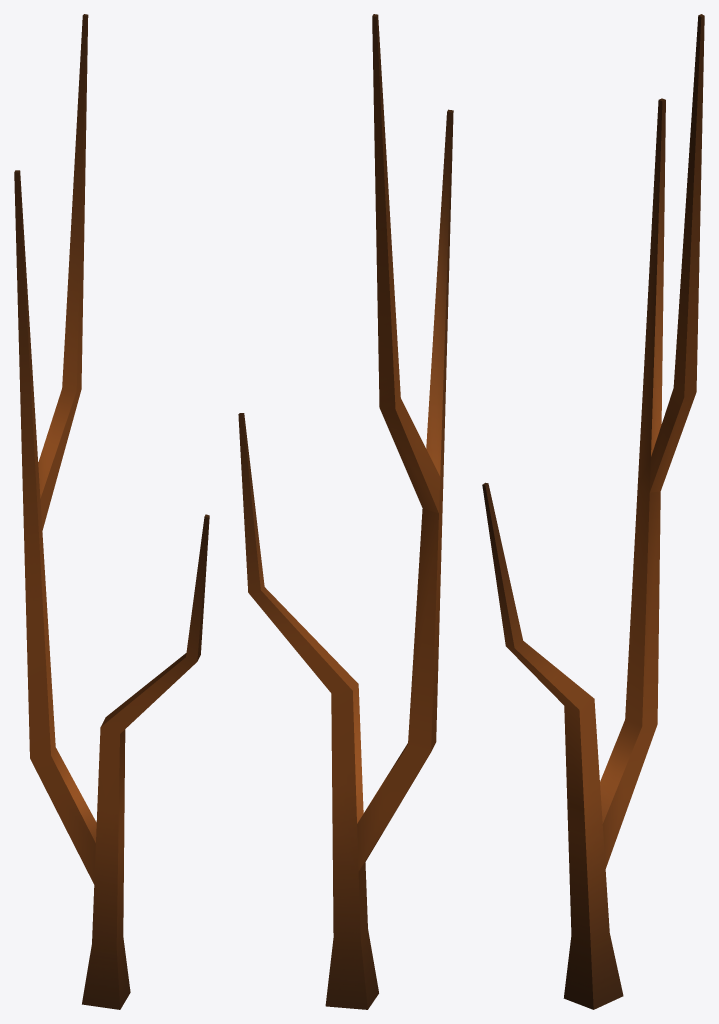
The model's file is TreeDead_Sml-03.FBX.
3 views of the same model, side by side, from view 1: azimuth 30°, elevation 25°; view 2: azimuth 210°, elevation 25°; view 3: azimuth 270°, elevation 25° (orthographic). The views are drawn at different scales.
Visible parts, largest first — view 1: TreeDead_Sml-03; view 2: TreeDead_Sml-03; view 3: TreeDead_Sml-03.
Boxes of the visible parts, bbox=[...] form: TreeDead_Sml-03: bbox=[14, 14, 209, 1009]; TreeDead_Sml-03: bbox=[238, 14, 453, 1009]; TreeDead_Sml-03: bbox=[482, 14, 704, 1009].
Bounding box in the file's own units: 14.31 × 110 × 22.15.
Materials: 1 (1 with a texture image).
